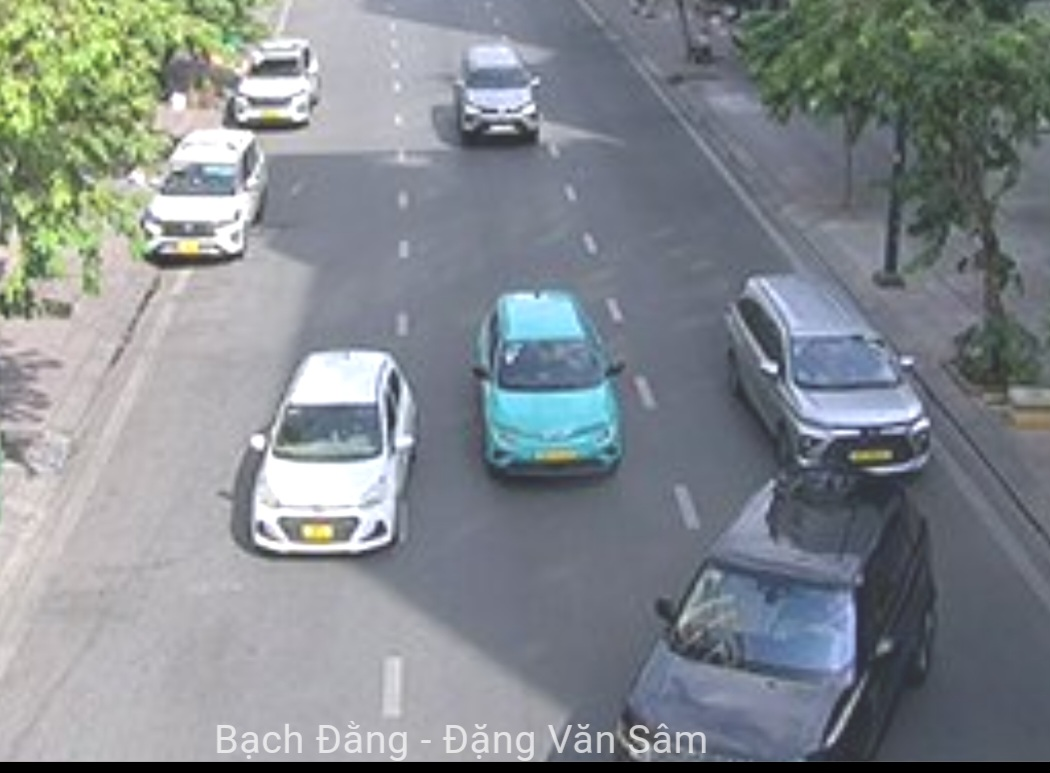car: (625, 473, 938, 770), (717, 275, 940, 478), (246, 348, 410, 559), (470, 288, 627, 484), (143, 127, 271, 267), (452, 46, 545, 150), (227, 41, 324, 127)
